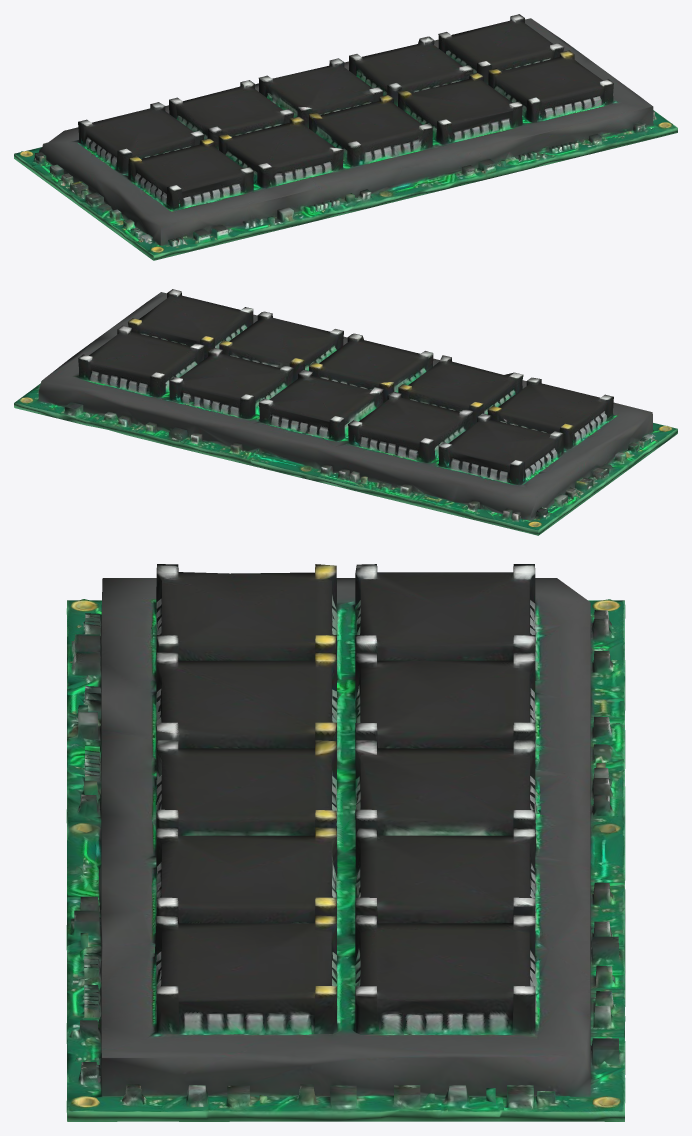
The model's file is chip_platform.glb.
3 views of the same model, one above another, from view 1: azimuth 30°, elevation 25°; view 2: azimuth 150°, elevation 25°; view 3: azimuth 270°, elevation 25° (orthographic). The views are drawn at different scales.
Parts seen in each view (by area): view 1: tripo_node_79766425-cd2a-43f4-8971-6a2a5799b1c6; view 2: tripo_node_79766425-cd2a-43f4-8971-6a2a5799b1c6; view 3: tripo_node_79766425-cd2a-43f4-8971-6a2a5799b1c6.
Part boxes in pixels (bbox=[...]): tripo_node_79766425-cd2a-43f4-8971-6a2a5799b1c6: bbox=[14, 14, 677, 260]; tripo_node_79766425-cd2a-43f4-8971-6a2a5799b1c6: bbox=[14, 289, 677, 535]; tripo_node_79766425-cd2a-43f4-8971-6a2a5799b1c6: bbox=[66, 564, 625, 1121].
Size of the model in its own units: 0.9775 by 0.0771 by 0.4506.
Materials: 1 (1 with a texture image).
